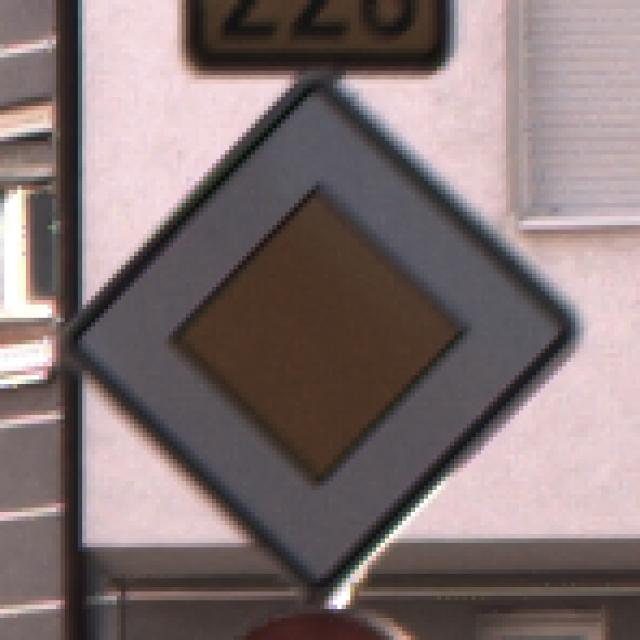Main Road: (57, 54, 585, 588)
